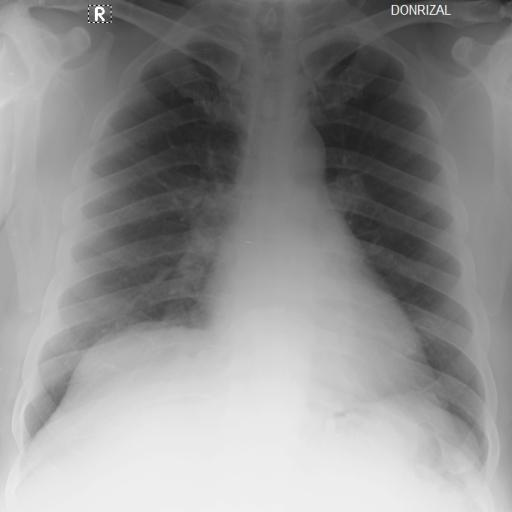kardiomegali: (3, 0, 502, 477)
